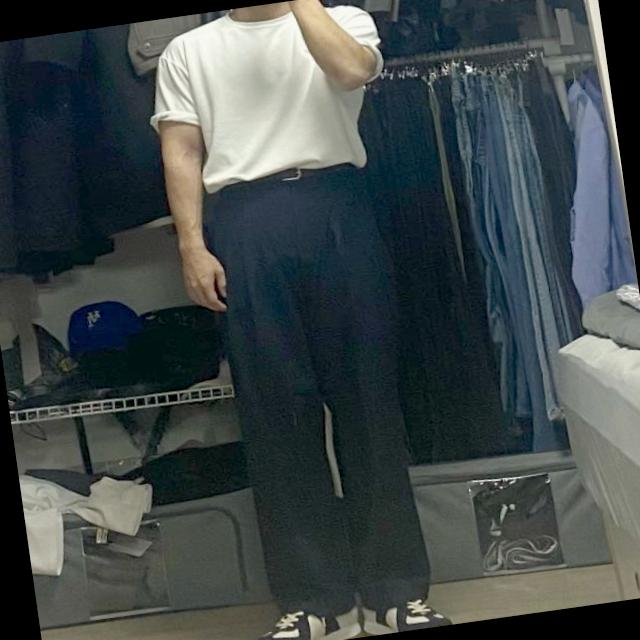shortsleeve: (136, 0, 399, 199)
slacks: (196, 158, 449, 632)
